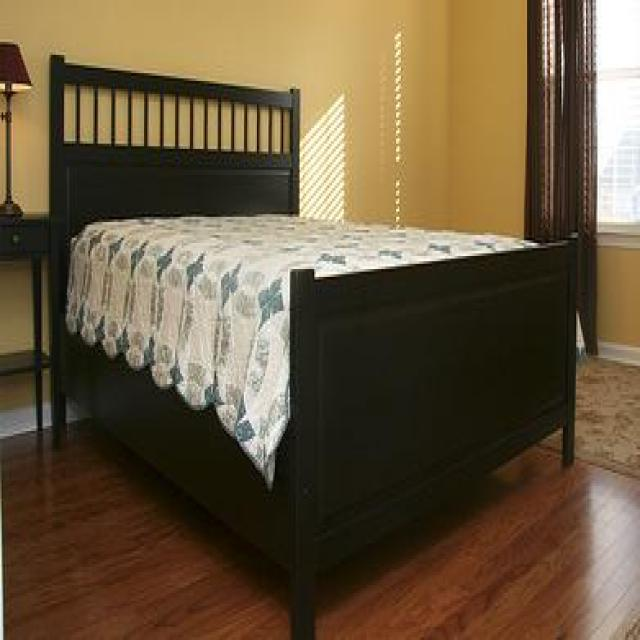bed: (47, 50, 578, 638)
